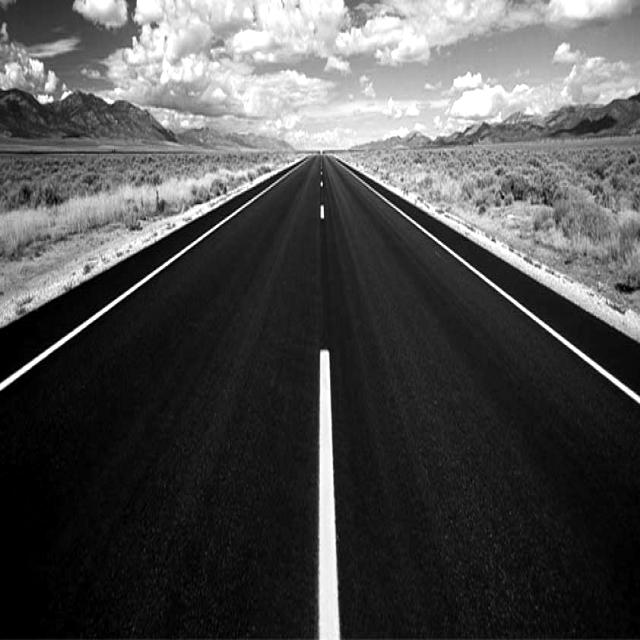cleat: (131, 98, 640, 640)
